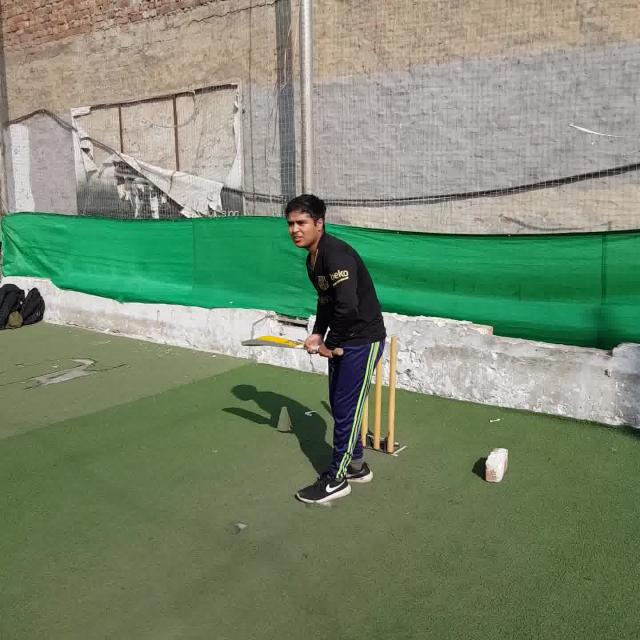bat: (242, 334, 342, 356)
